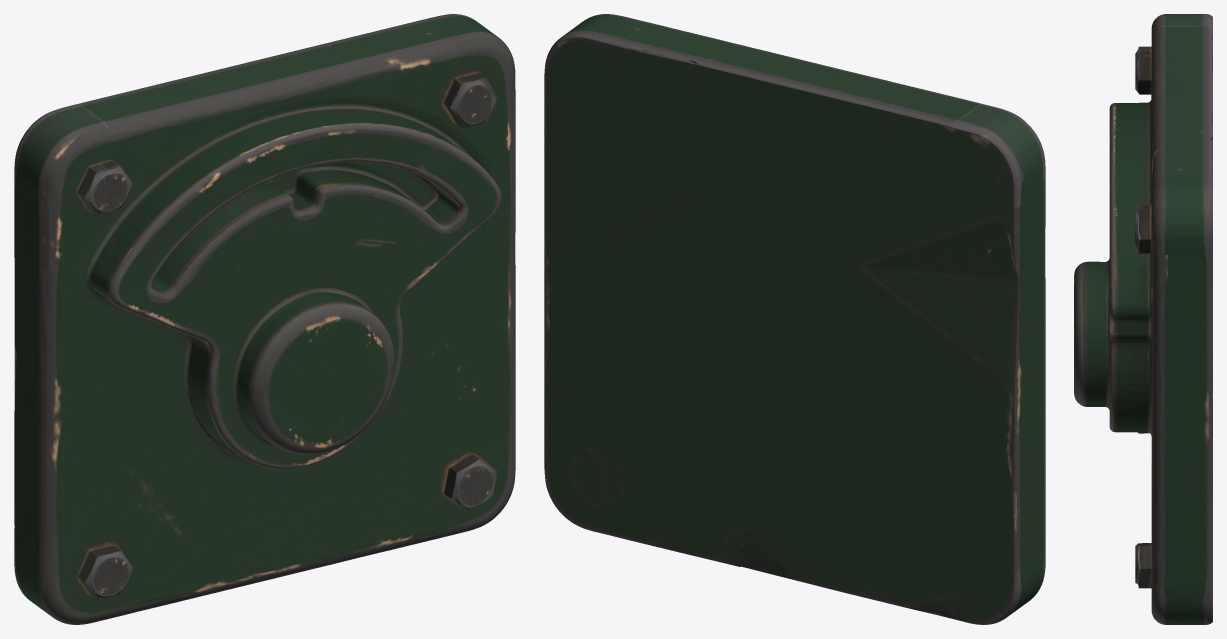
The model's file is leva_base.glb.
The picture shows the model from 3 angles, left to right: view 1: azimuth 30°, elevation 25°; view 2: azimuth 150°, elevation 25°; view 3: azimuth 270°, elevation 25°; orthographic projection. The views are drawn at different scales.
Visible parts, largest first — view 1: Mesh_0; view 2: Mesh_0; view 3: Mesh_0.
Part boxes in pixels (x1,y1,x2,y2): Mesh_0: (14,14,515,624); Mesh_0: (544,14,1045,624); Mesh_0: (1074,14,1212,624).
Size of the model in its own units: 1.9 by 1.9 by 0.5466.
1 material, 1 textured.
